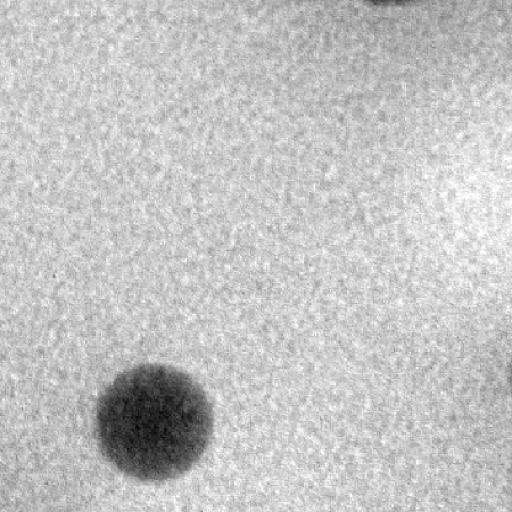Nanoparticles: (93, 360, 217, 484)
